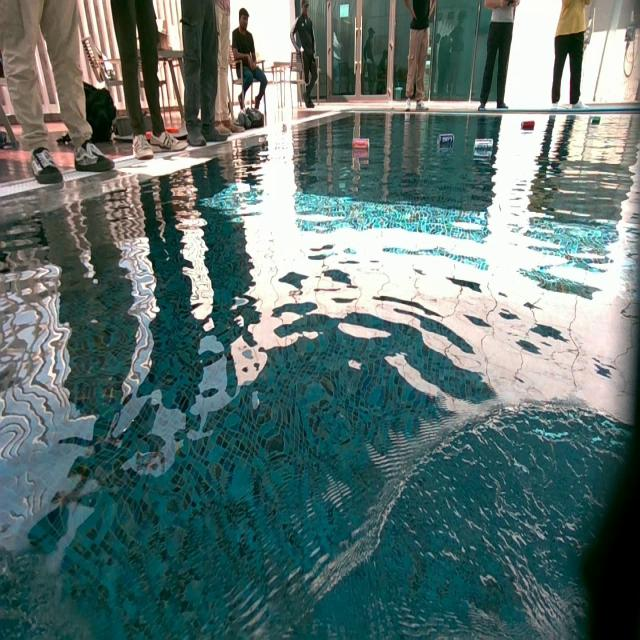Cans: (473, 138, 495, 153), (353, 138, 369, 155), (439, 134, 456, 149), (520, 118, 534, 130), (591, 115, 601, 124)
